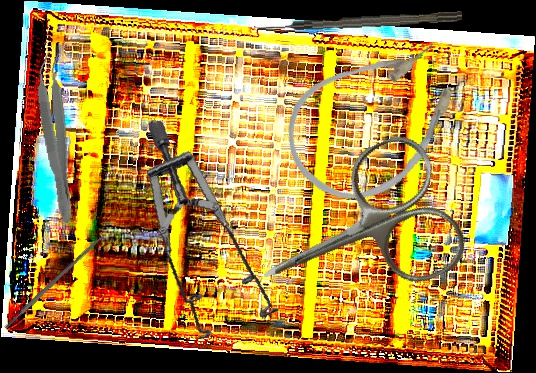Cannula: (264, 15, 488, 226)
Hook Surgical: (260, 11, 463, 33)
Iris Scissors: (232, 127, 475, 341)
Scalpel Handle: (2, 234, 105, 330)
Speculum: (108, 119, 312, 353)
Tissue Forceps: (31, 50, 85, 225)
